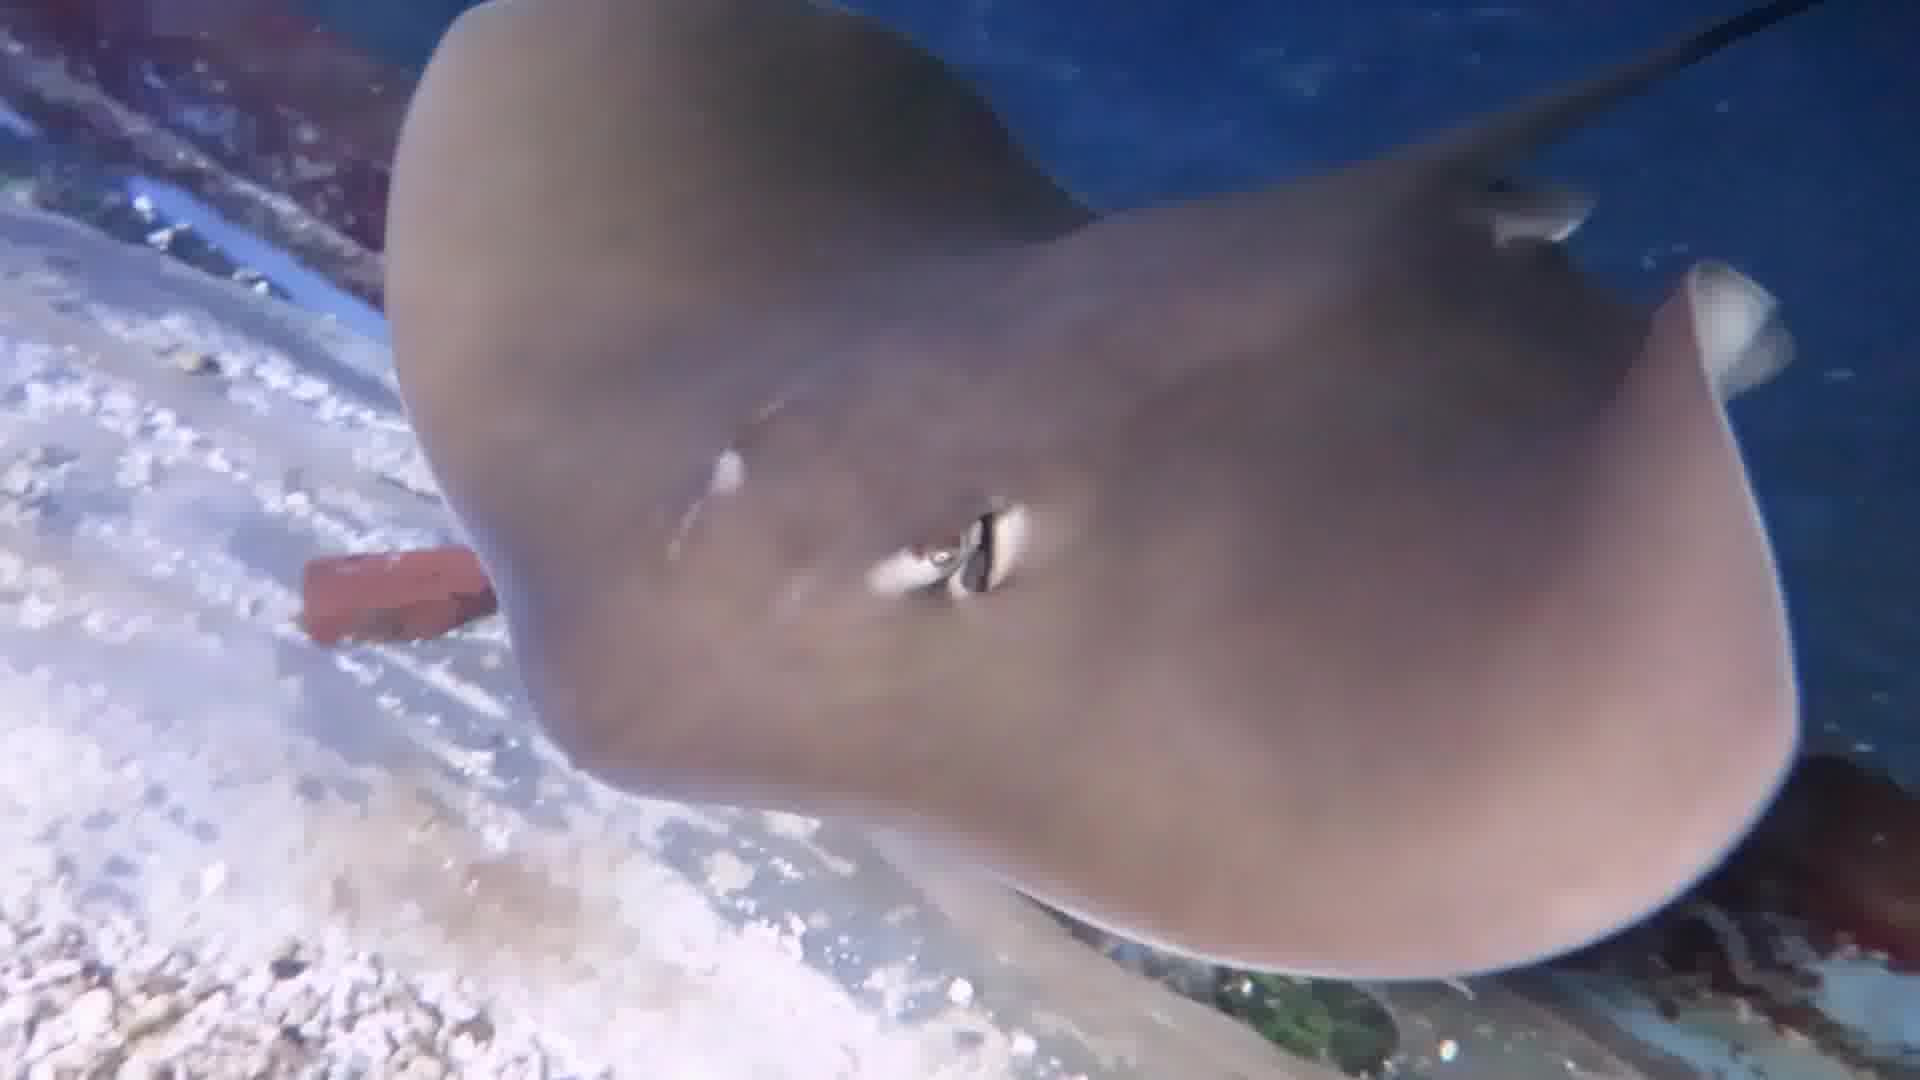Dasyatis akajei: (381, 7, 1851, 1000)
